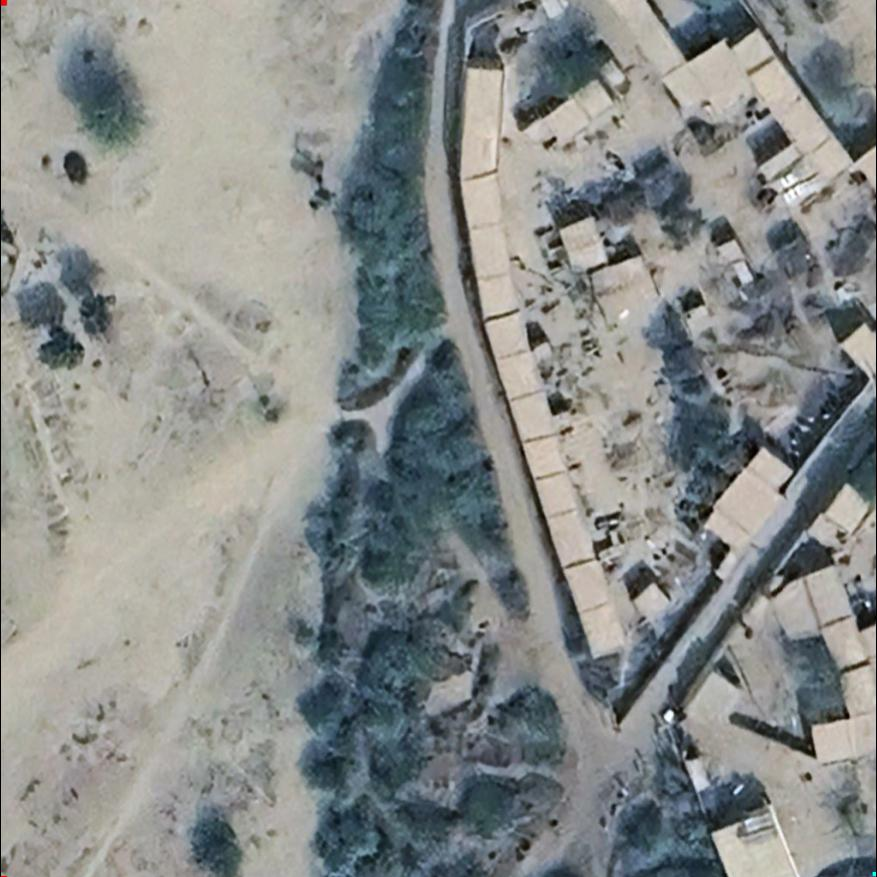Solarpanel: (731, 809, 783, 855)
